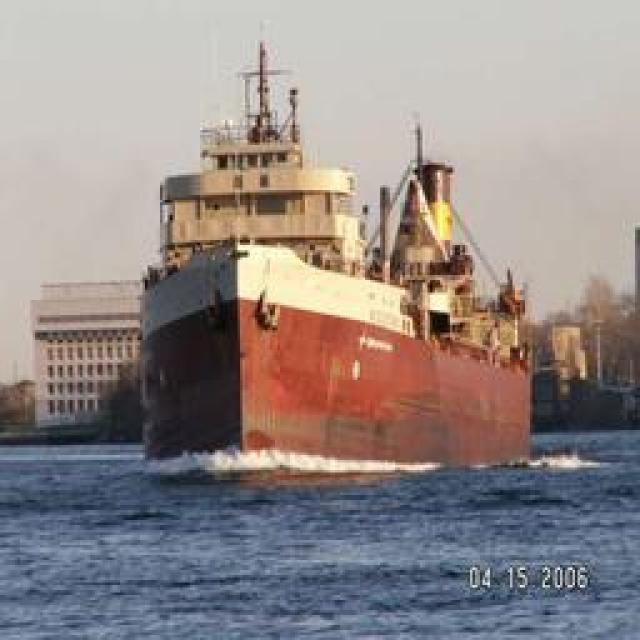CIV_Ship: (122, 112, 546, 470)
